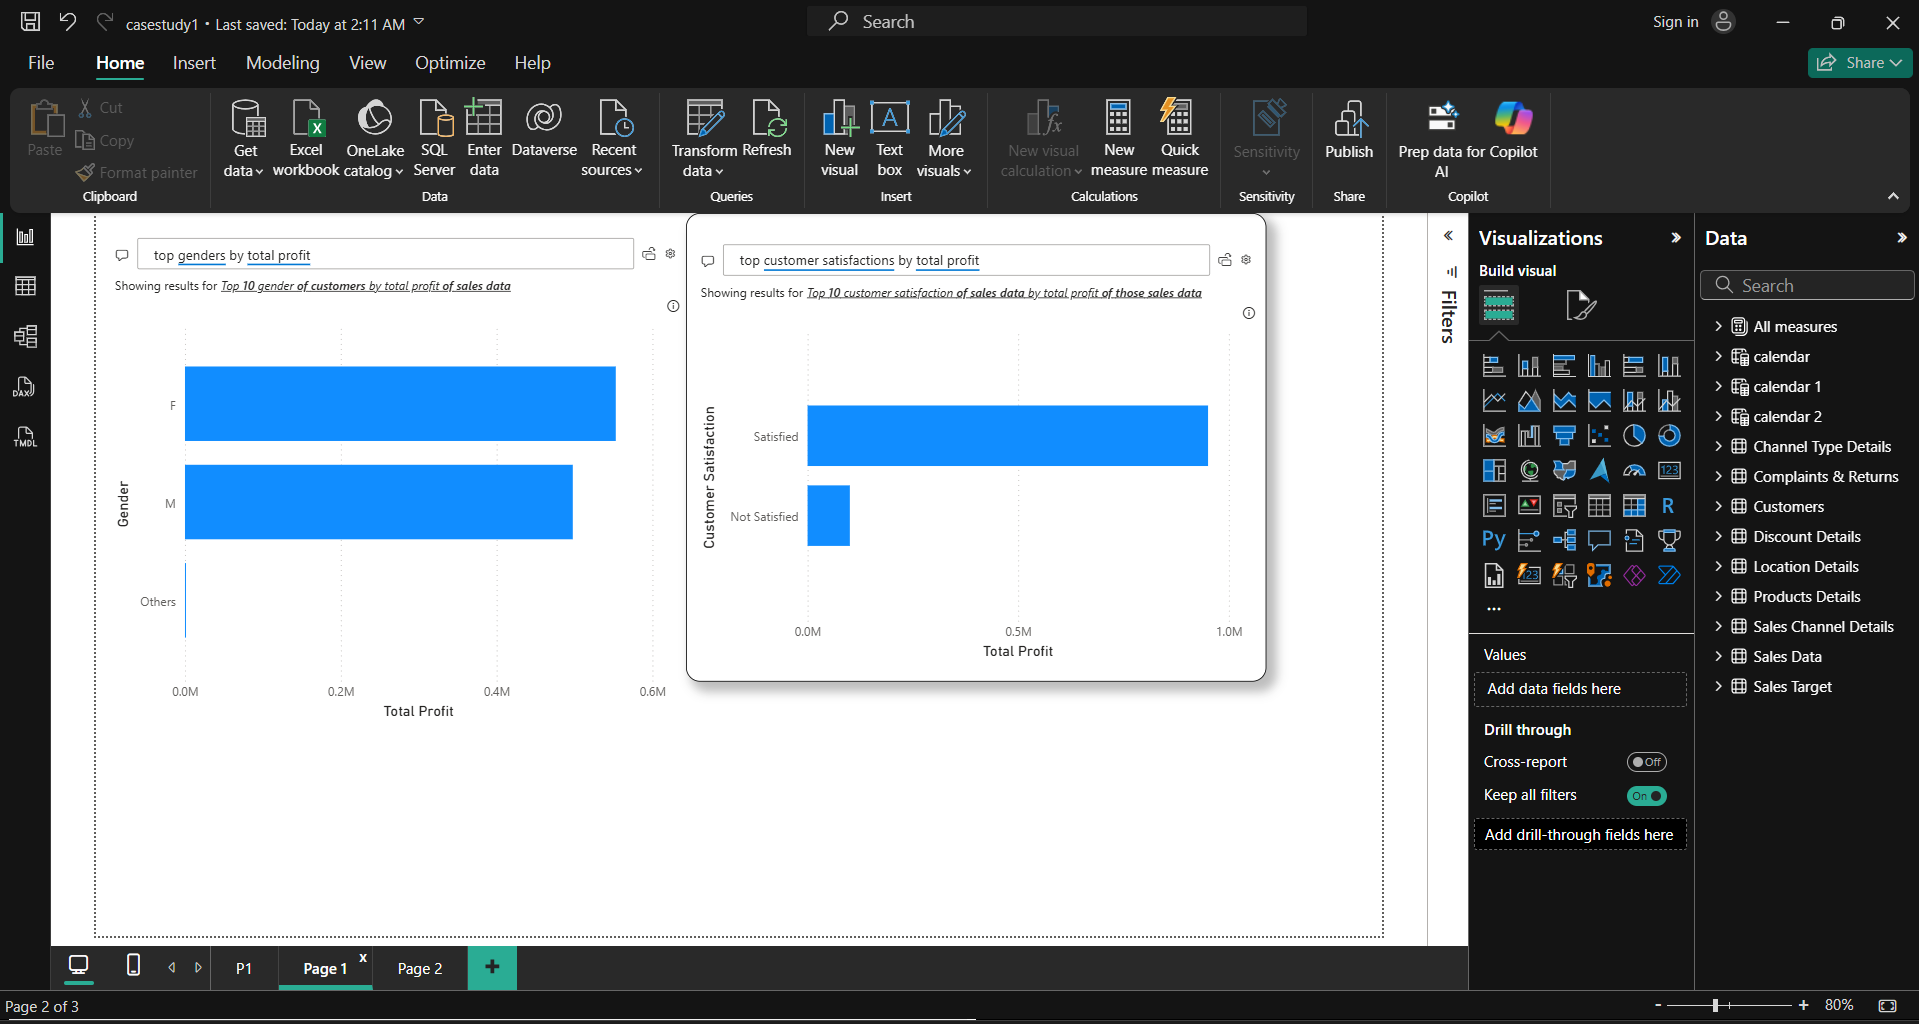

Layout of this report page (visuals, bound fields, positions):
{"tool":"powerbi","page":{"name":"Page 1","canvas":[1280,720],"ordinal":1},"visuals":[{"type":"qnaVisual","box":[9.6,0,577.4,522.9],"z":0},{"type":"qnaVisual","box":[587.1,0,577.4,466.8],"z":1000}]}

Visuals, with their boxes on the page's 1280x720 design canvas (x1, y1, x2, y2). These are canvas units, not pixel positions in the 1919x1024 screenshot, which may show the page scaled, cropped or inside an application window:
qnaVisual: x1=10, y1=0, x2=587, y2=523
qnaVisual: x1=587, y1=0, x2=1164, y2=467
